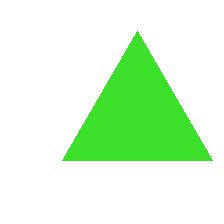triangle: (62, 31, 212, 160)
